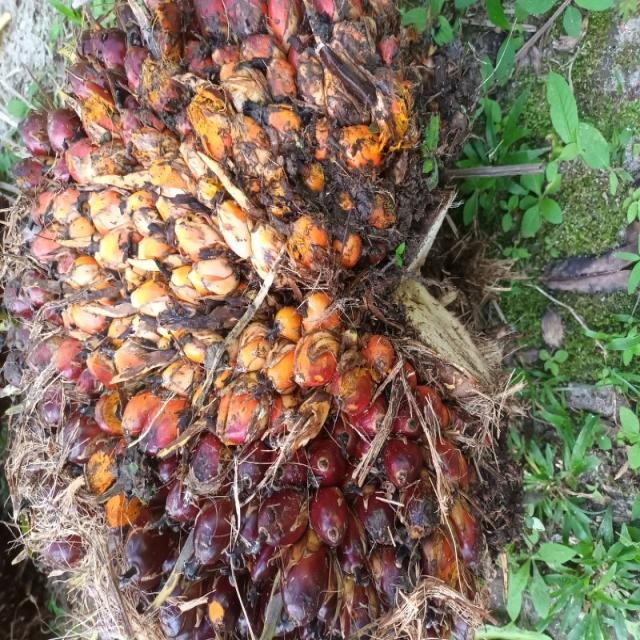fraksi 1: (5, 25, 477, 640)
